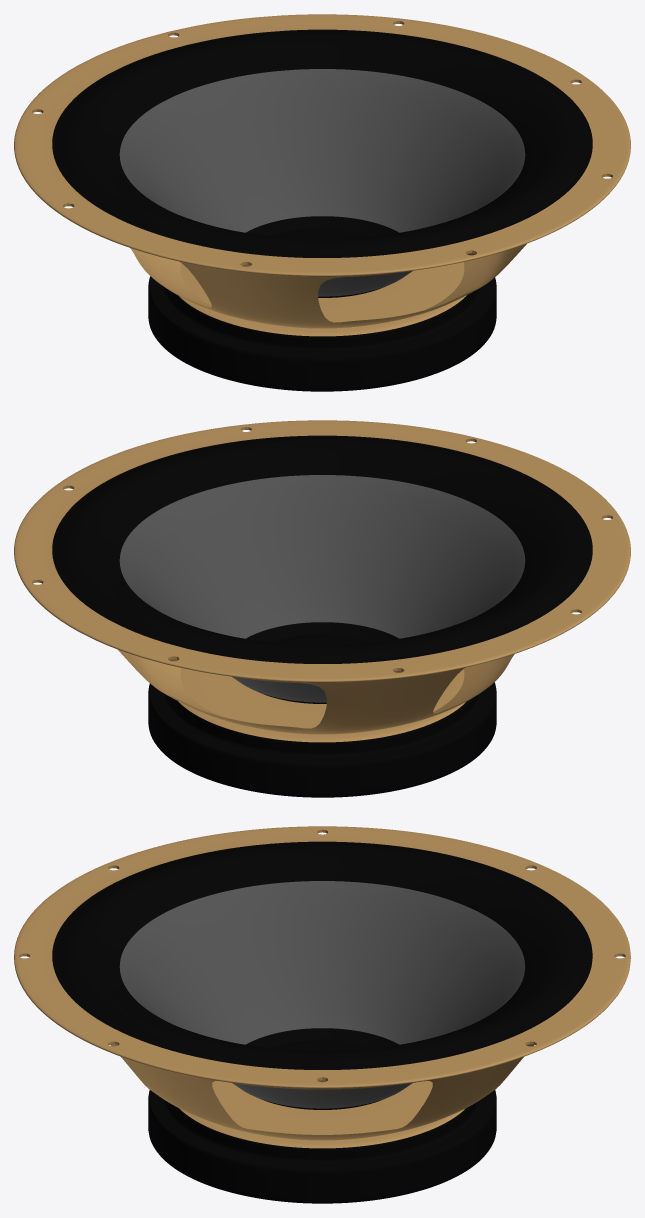
Rendered from speaker.glb.
3 renders of one model, top to bottom at view 1: azimuth 30°, elevation 25°; view 2: azimuth 150°, elevation 25°; view 3: azimuth 270°, elevation 25°, orthographic.
Visible parts, largest first — view 1: Circle_0; view 2: Circle_0; view 3: Circle_0.
Part boxes in pixels (<box>): Circle_0: <box>14,14,630,391</box>; Circle_0: <box>14,420,630,797</box>; Circle_0: <box>14,826,630,1203</box>.
Bounding box in the file's own units: 1.02 × 0.36 × 1.02.
